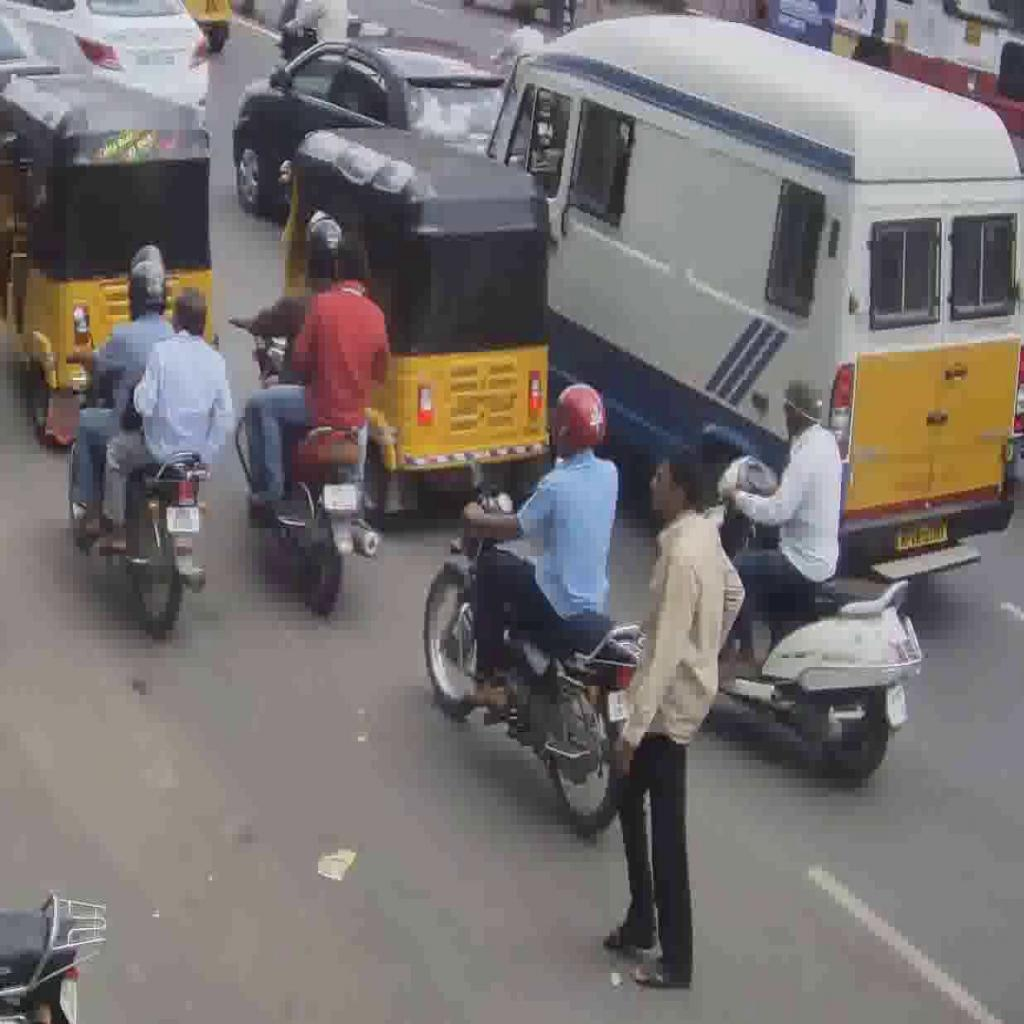bike: (424, 482, 630, 854), (707, 452, 922, 785), (64, 312, 214, 644), (238, 313, 384, 615)
helmet: (551, 378, 617, 466), (303, 200, 348, 298), (121, 246, 169, 321), (784, 380, 824, 445)
lisc: (324, 485, 358, 514), (166, 510, 201, 538), (888, 684, 908, 724)
no_helmet: (169, 284, 214, 349), (328, 230, 367, 297)
rider: (448, 378, 624, 730), (256, 222, 390, 490), (718, 382, 840, 650), (98, 284, 238, 508), (69, 246, 176, 514), (249, 210, 339, 487)
